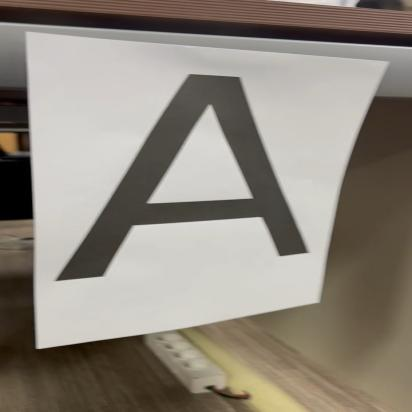seat: (44, 61, 326, 294)
